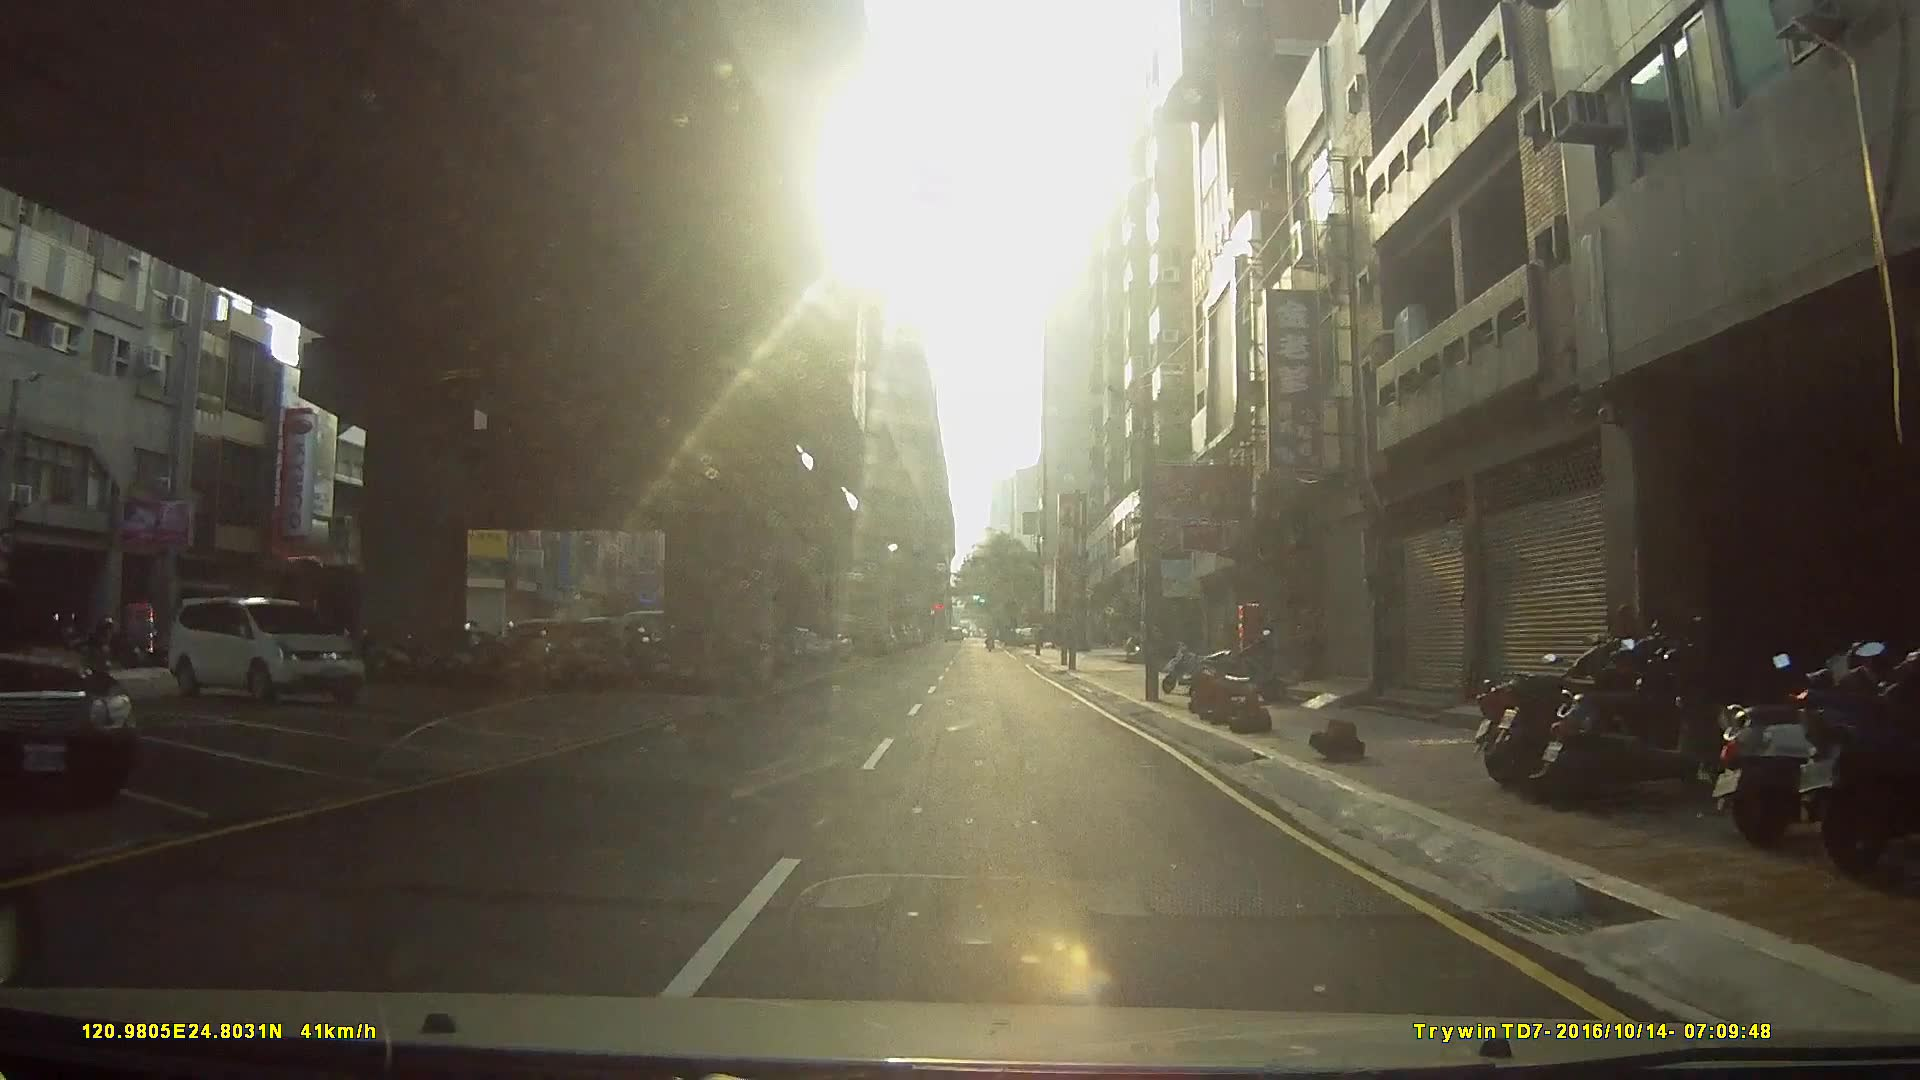vehicle: (0, 568, 141, 807), (166, 596, 365, 705)
